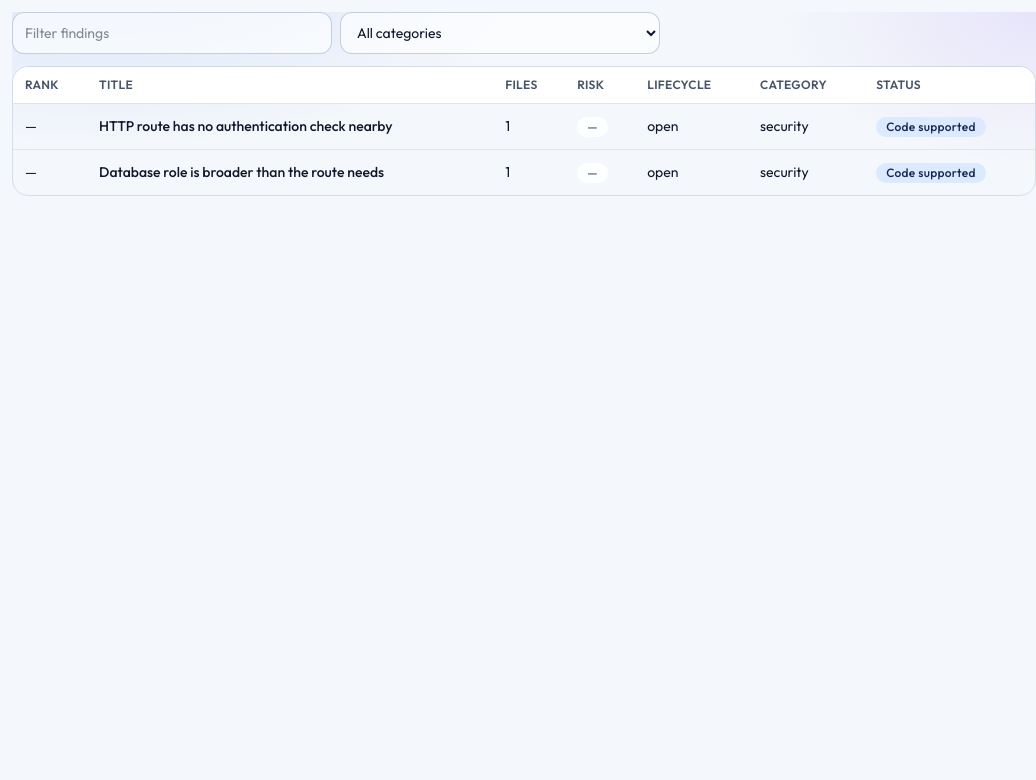
Test: findings table selection › scrolls the finding summary into view when a table row is clicked
Click the 3rd row at {"x": 524, "y": 172}, box x1=13 y1=150 x2=1035 y2=195
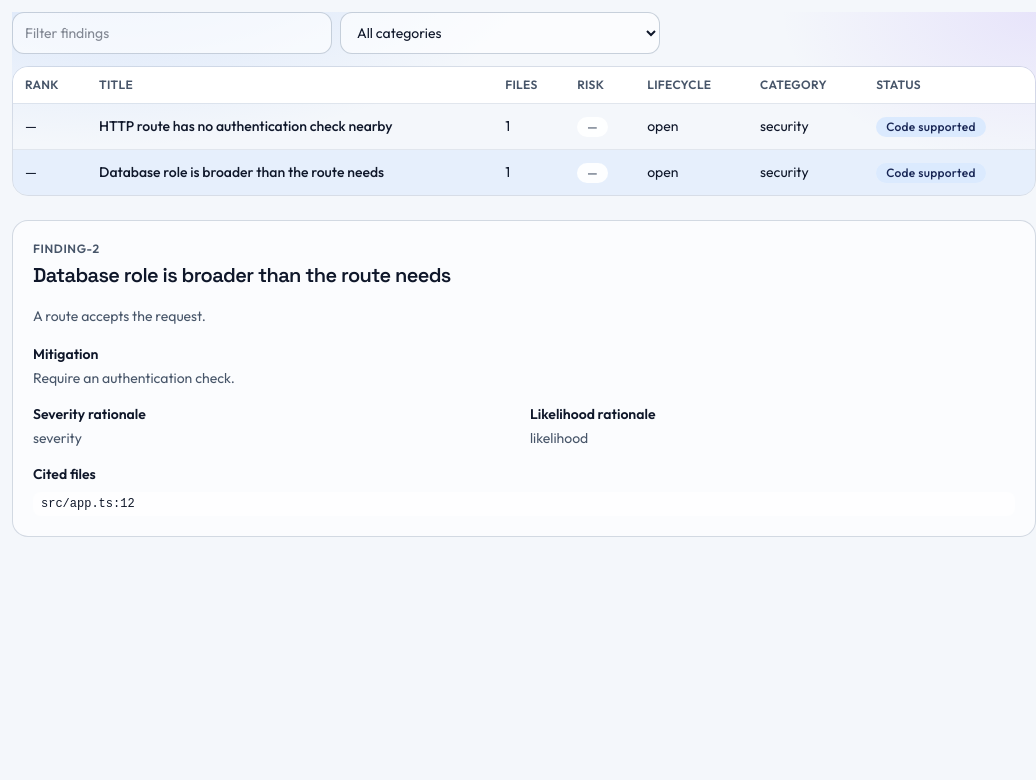
Now the element with test id "finding-details" shows "Database role is broader than the route needs", box x1=33 y1=262 x2=451 y2=288
